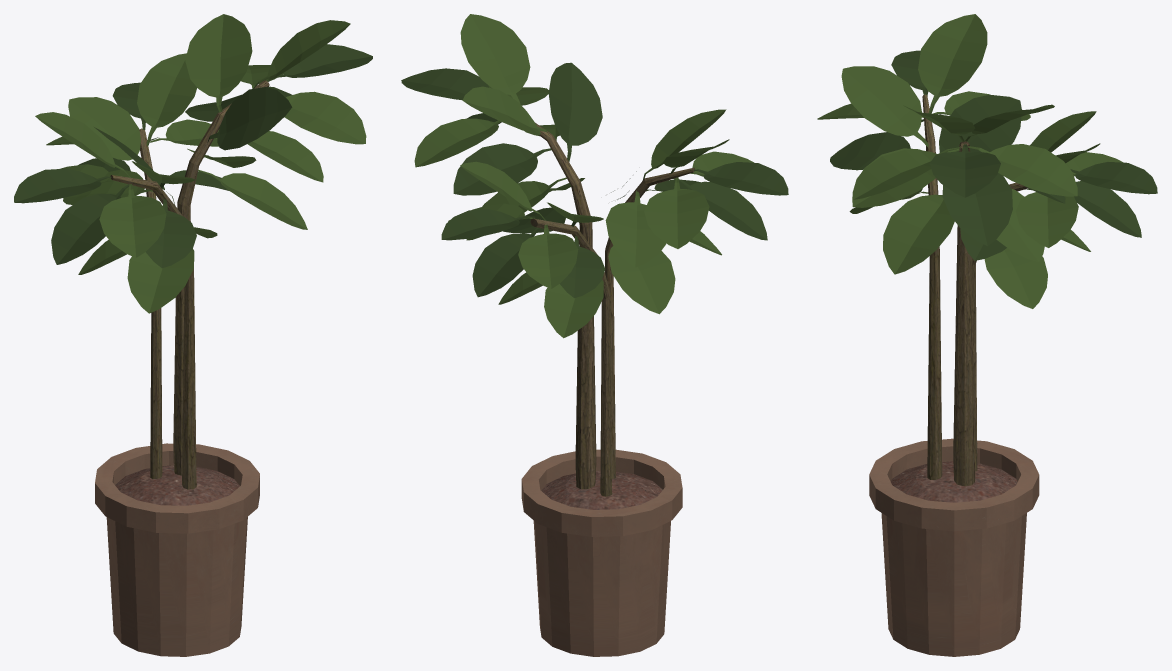
The model's file is plant.glb.
3 views of the same model, side by side, from view 1: azimuth 30°, elevation 25°; view 2: azimuth 150°, elevation 25°; view 3: azimuth 270°, elevation 25° (orthographic). The views are drawn at different scales.
Parts seen in each view (by area): view 1: Object_3, Object_5, Object_4, Object_6, Object_2; view 2: Object_3, Object_5, Object_4, Object_6, Object_2; view 3: Object_3, Object_5, Object_4, Object_6, Object_2.
Part boxes in pixels (bbox=[...]): Object_3: bbox=[35, 14, 366, 313]; Object_5: bbox=[95, 443, 259, 656]; Object_4: bbox=[14, 44, 372, 268]; Object_6: bbox=[110, 80, 269, 489]; Object_2: bbox=[115, 465, 239, 505]; Object_3: bbox=[414, 14, 753, 338]; Object_5: bbox=[521, 449, 682, 656]; Object_4: bbox=[401, 62, 788, 298]; Object_6: bbox=[530, 122, 694, 496]; Object_2: bbox=[541, 471, 662, 509]; Object_3: bbox=[817, 14, 1123, 308]; Object_5: bbox=[869, 438, 1039, 656]; Object_4: bbox=[830, 50, 1157, 260]; Object_6: bbox=[922, 94, 1028, 486]; Object_2: bbox=[891, 461, 1017, 502].
Bounding box in the file's own units: 6.04 × 8.88 × 4.61.
Materials: 5 (3 with a texture image).
